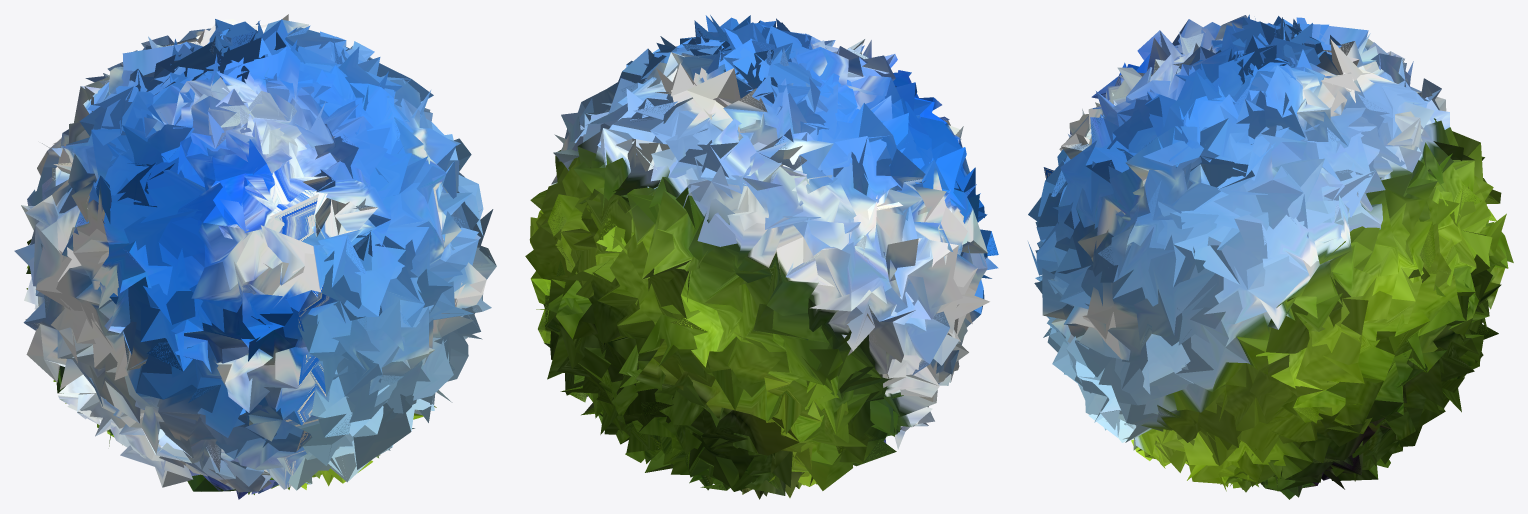
The model's file is Example_v2.2_animated.glb.
3 renders of one model, left to right at view 1: azimuth 30°, elevation 25°; view 2: azimuth 150°, elevation 25°; view 3: azimuth 270°, elevation 25°, orthographic.
Visible parts, largest first — view 1: Sphere; view 2: Sphere; view 3: Sphere.
Boxes of the visible parts, x1=… form: Sphere: x1=14, y1=14, x2=496, y2=499; Sphere: x1=525, y1=15, x2=998, y2=499; Sphere: x1=1028, y1=14, x2=1513, y2=499.
Size of the model in its own units: 0.2211 by 0.2279 by 0.2205.
1 material, 1 textured.
